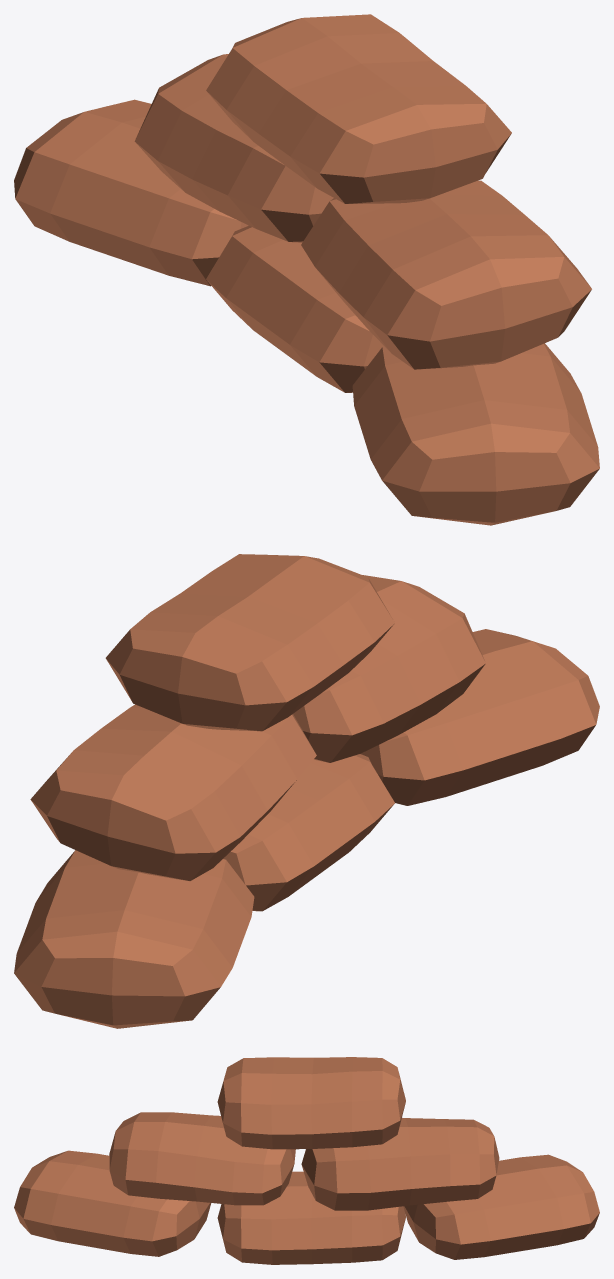
The model's file is sandbags_jtoastie.glb.
The picture shows the model from 3 angles, top to bottom: view 1: azimuth 30°, elevation 25°; view 2: azimuth 150°, elevation 25°; view 3: azimuth 270°, elevation 25°; orthographic projection. The views are drawn at different scales.
Parts seen in each view (by area): view 1: Sandbag; view 2: Sandbag; view 3: Sandbag.
Boxes of the visible parts, x1,y1,x2,y2 form: Sandbag: (14, 14, 599, 525); Sandbag: (14, 554, 599, 1028); Sandbag: (14, 1057, 599, 1264).
Size of the model in its own units: 0.6735 by 0.6774 by 2.
